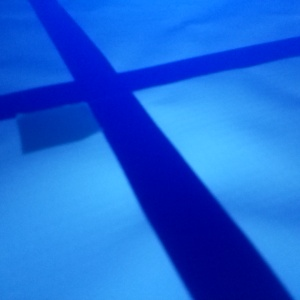bottom_left: (147, 7, 223, 35)
bottom_right: (200, 14, 284, 45)
top_left: (29, 90, 120, 177)
